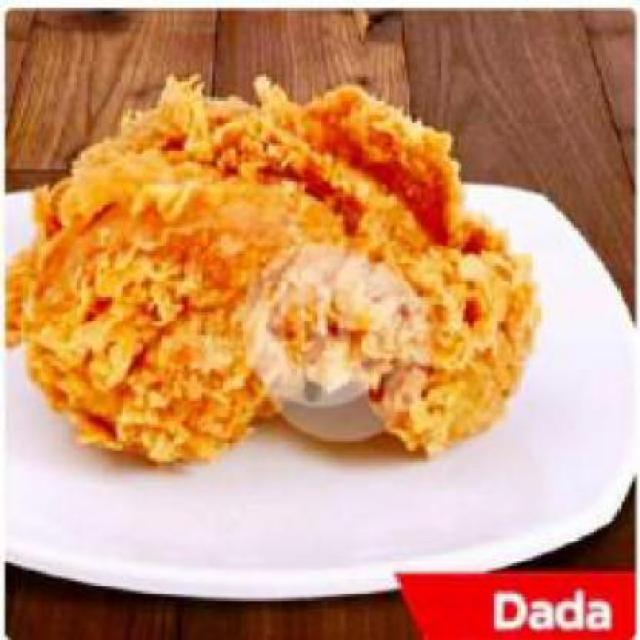Chicken -Fried Chicken-: (0, 61, 538, 464)
